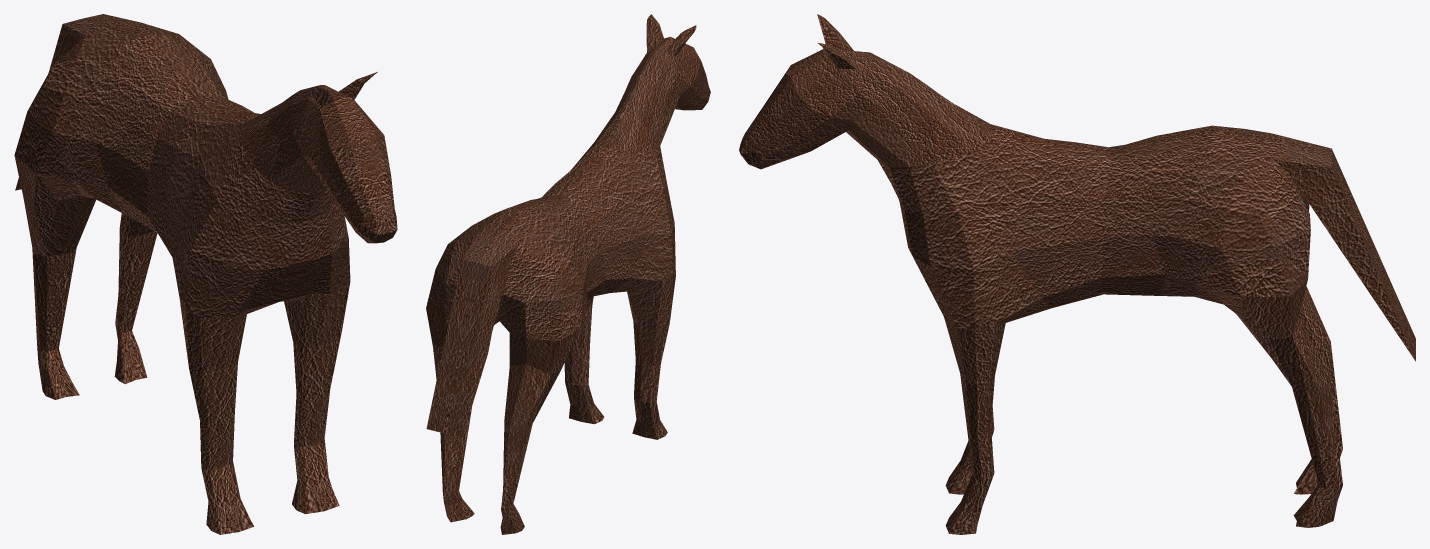
File: horse_v5.obj
3 views of the same model, side by side, from view 1: azimuth 30°, elevation 25°; view 2: azimuth 150°, elevation 25°; view 3: azimuth 270°, elevation 25° (orthographic). The views are drawn at different scales.
Visible parts, largest first — view 1: Cube_Cube.001; view 2: Cube_Cube.001; view 3: Cube_Cube.001.
Part boxes in pixels (left/top/right/bottom): Cube_Cube.001: left=14, top=14, right=397, bottom=534; Cube_Cube.001: left=426, top=14, right=710, bottom=534; Cube_Cube.001: left=739, top=14, right=1415, bottom=534.
Size of the model in its own units: 1.35 by 3.39 by 4.36.
Materials: 1 (1 with a texture image).
